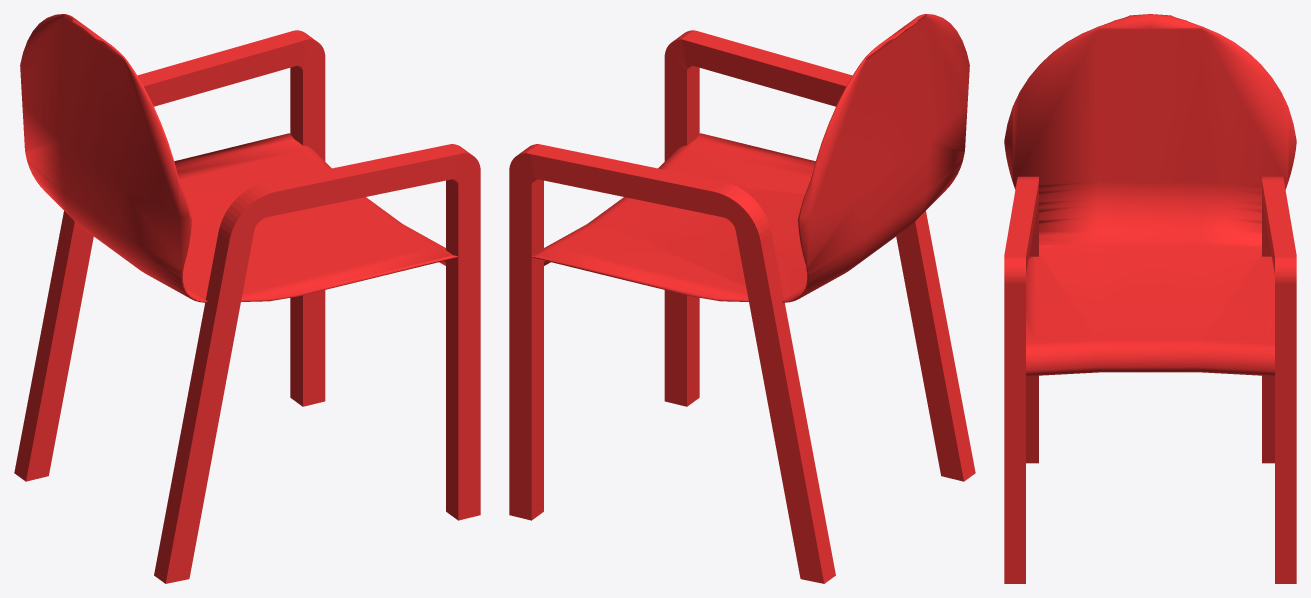
Rendered from redchair.dae.
3 renders of one model, left to right at view 1: azimuth 30°, elevation 25°; view 2: azimuth 150°, elevation 25°; view 3: azimuth 270°, elevation 25°, orthographic. The views are drawn at different scales.
Parts seen in each view (by area): view 1: lrg1, Group_1_1, lrg2, Group_1_2; view 2: lrg2, Group_1_2, lrg1, Group_1_1; view 3: Group_1_1, Group_1_2, lrg1, lrg2.
Boxes of the visible parts, x1,y1,x2,y2 form: lrg1: (154, 144, 480, 583); Group_1_1: (84, 28, 457, 302); lrg2: (14, 30, 325, 481); Group_1_2: (20, 14, 371, 247); lrg2: (509, 144, 835, 583); Group_1_2: (532, 28, 905, 302); lrg1: (664, 30, 975, 481); Group_1_1: (618, 14, 969, 247); Group_1_1: (1004, 14, 1150, 376); Group_1_2: (1150, 14, 1296, 376); lrg1: (1004, 176, 1038, 583); lrg2: (1262, 176, 1296, 583).
Bounding box in the file's own units: 581 × 540 × 890.
